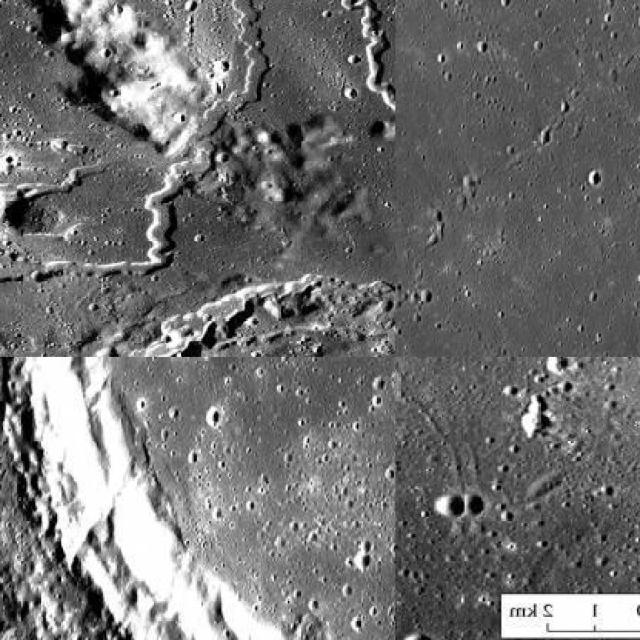rille: (11, 357, 394, 638), (131, 0, 394, 355), (396, 0, 638, 351), (0, 0, 272, 284)
